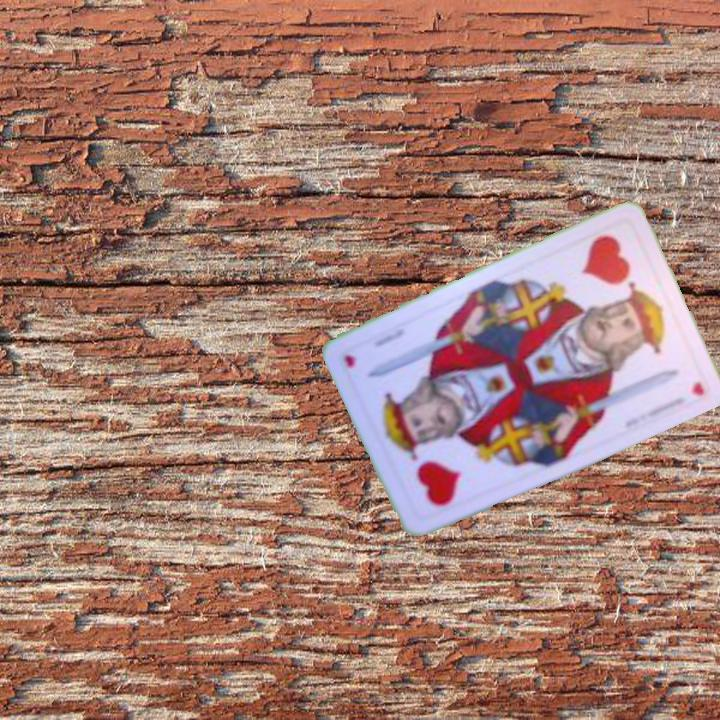h_k.png: (378, 401, 496, 526), (552, 217, 670, 342)
